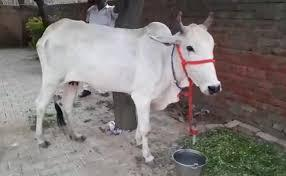cow: (34, 11, 223, 163)
